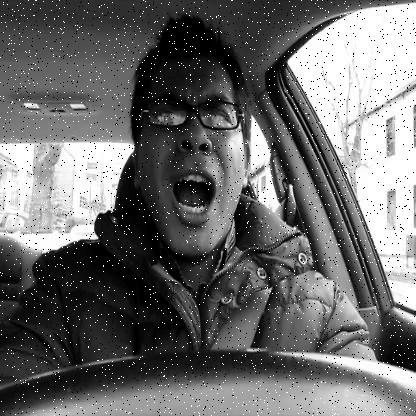seatbelt: (98, 2, 306, 350)
